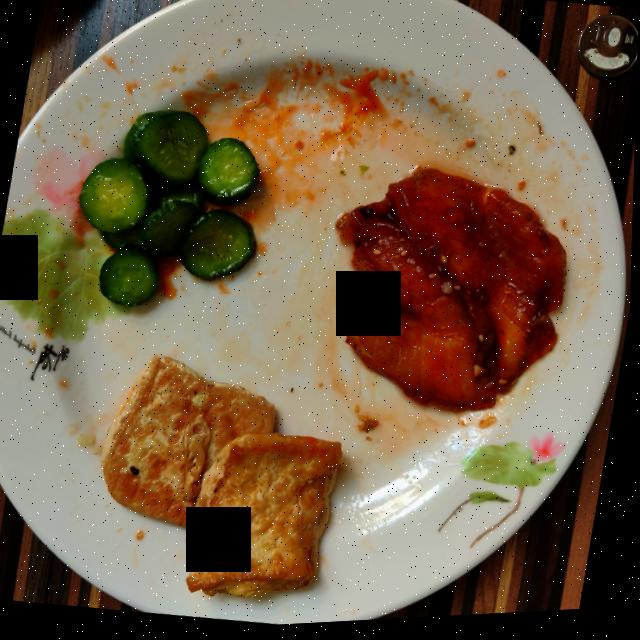Kabayaki sea bream fillet: (337, 173, 568, 415)
coin: (578, 22, 638, 84)
cucumber: (80, 112, 261, 308)
